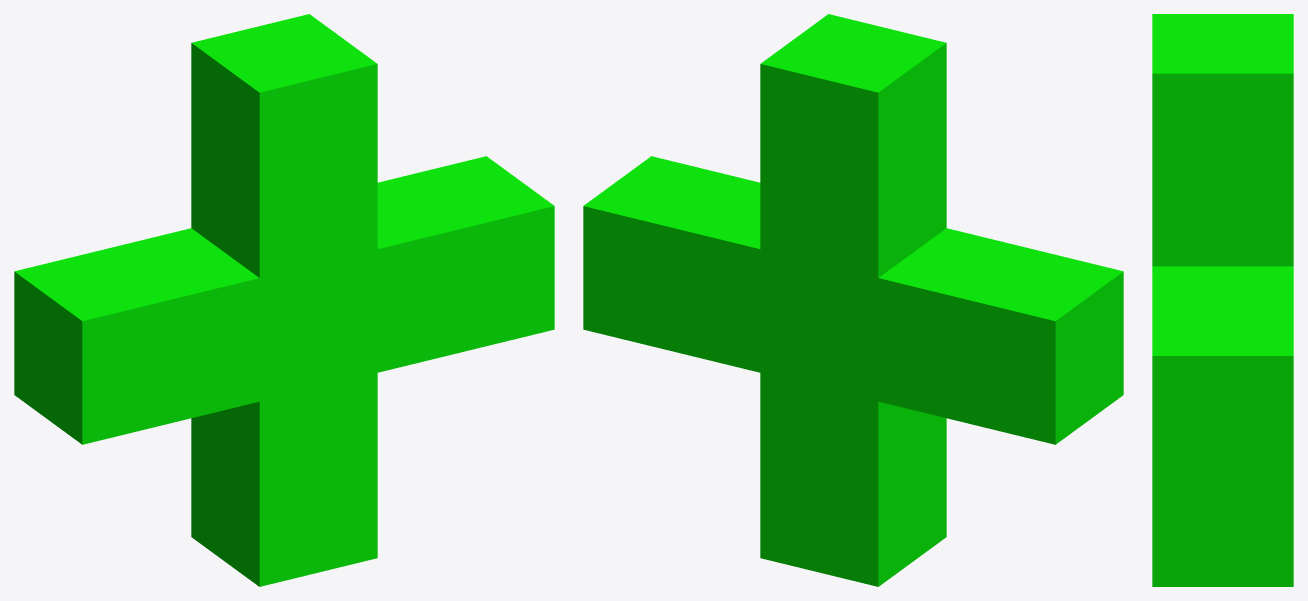
3 views of the same model, side by side, from view 1: azimuth 30°, elevation 25°; view 2: azimuth 150°, elevation 25°; view 3: azimuth 270°, elevation 25° (orthographic). The views are drawn at different scales.
Visible parts, largest first — view 1: Cube; view 2: Cube; view 3: Cube.
Boxes of the visible parts, <box> form: Cube: <box>14,14,554,586</box>; Cube: <box>583,14,1123,586</box>; Cube: <box>1152,14,1293,586</box>.
Size of the model in its own units: 200 by 200 by 50.
